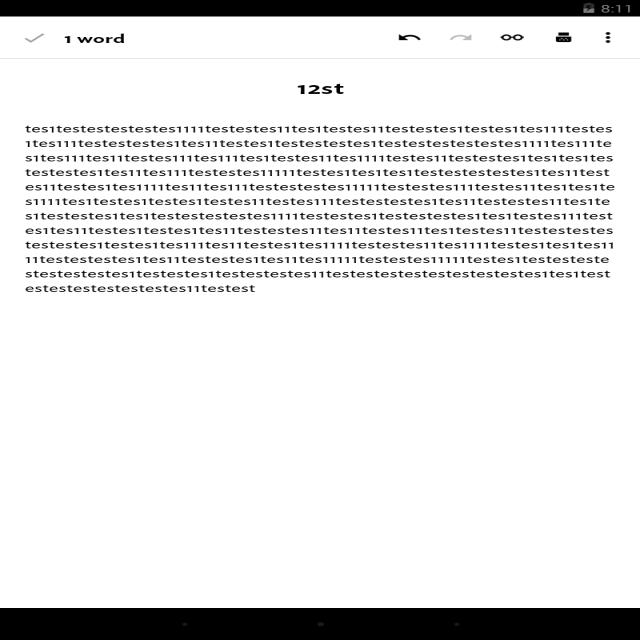ImageButton: (390, 26, 428, 44), (593, 26, 623, 48), (18, 29, 50, 47), (444, 30, 478, 46), (493, 28, 526, 44), (550, 30, 576, 45)
TextView: (21, 121, 624, 279), (290, 80, 360, 96), (64, 31, 131, 46)
